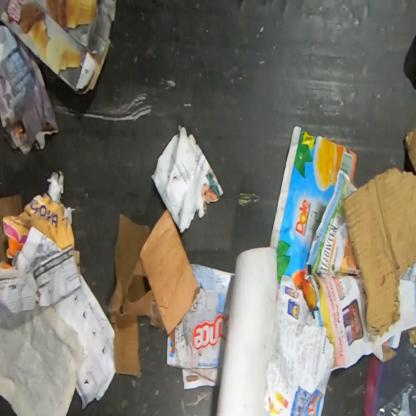cardboard: (269, 125, 357, 320), (107, 209, 199, 376), (343, 166, 415, 338), (0, 0, 118, 96), (165, 263, 235, 390), (0, 194, 23, 266), (403, 125, 415, 174)
soft_plastic: (363, 325, 415, 415)
